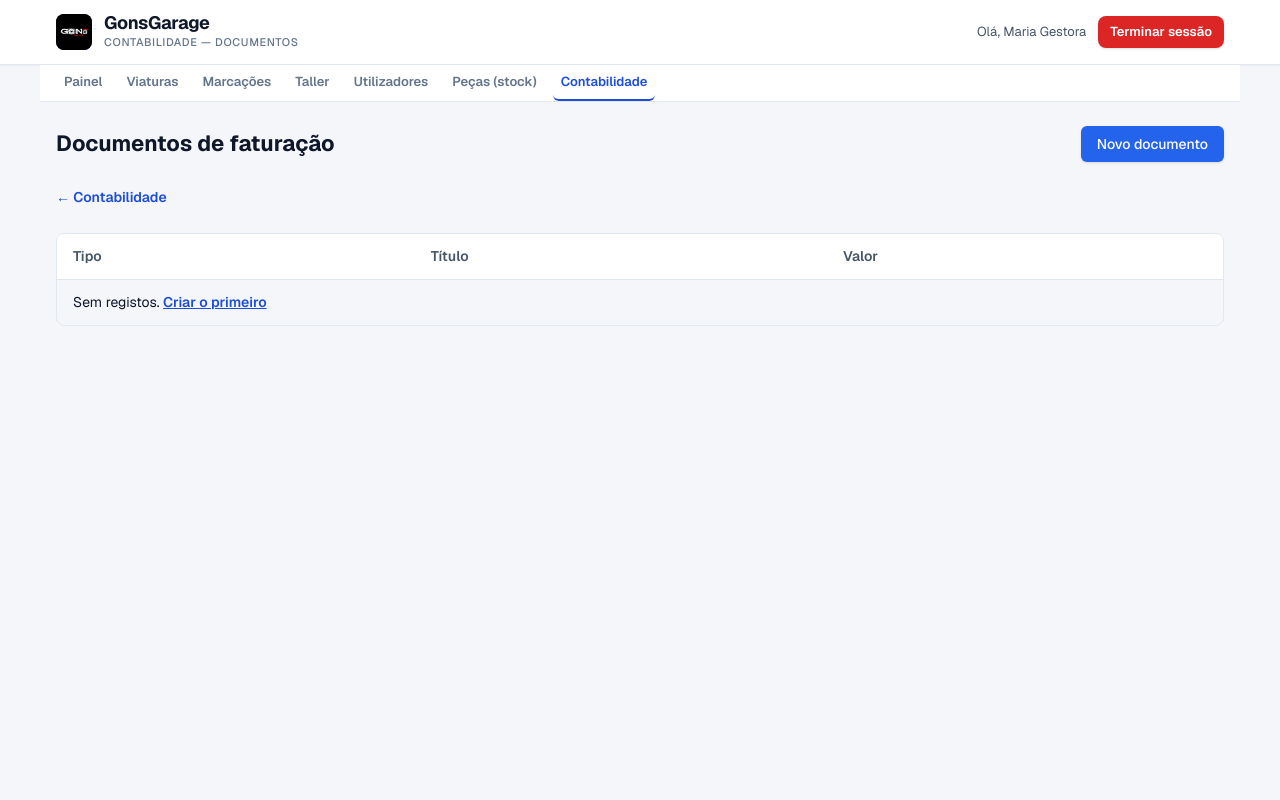
BillingDocumentsListPage create modal › opens the create dialog from the toolbar button
Step 1. Click the button "Novo documento" → (1152, 144), box [1081,126,1224,162]
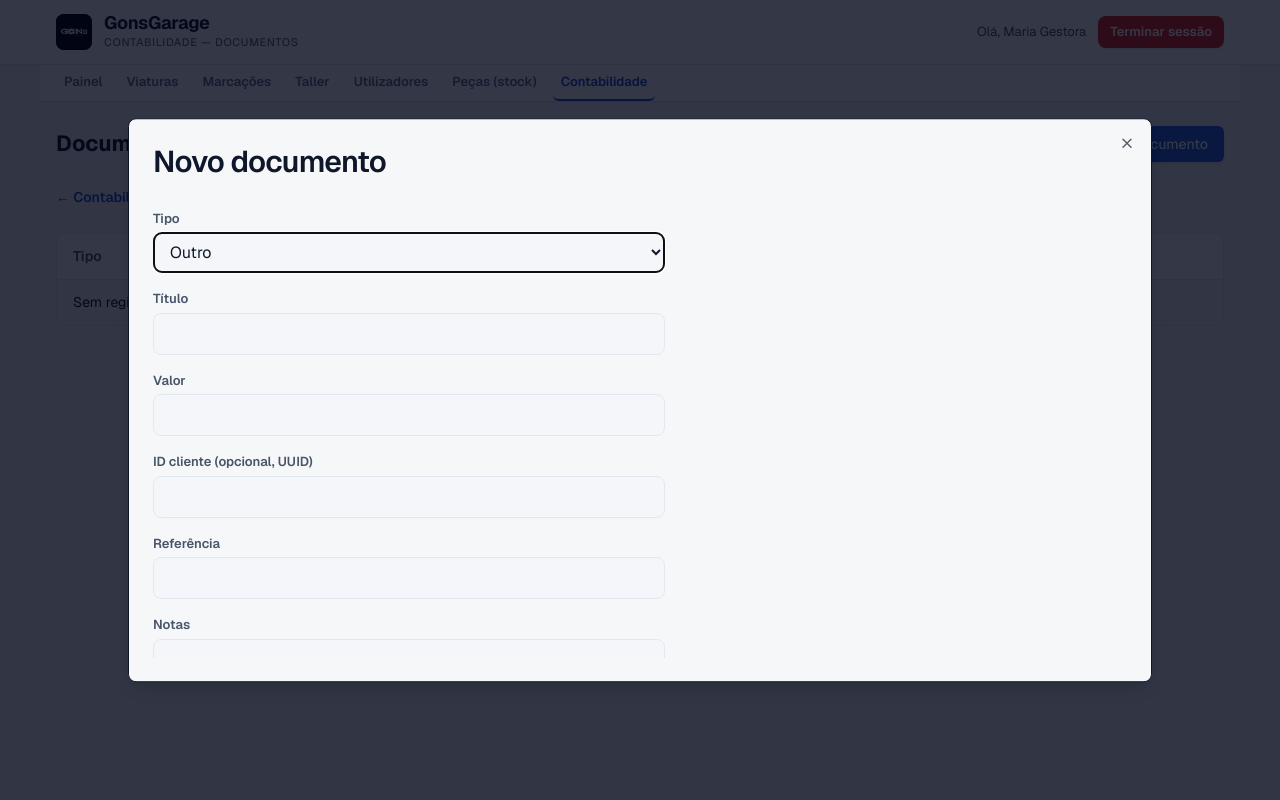
Expected: the dialog is shown, [128,118,1152,682]
Expected: the heading "Novo documento" is shown, [153,142,386,181]
